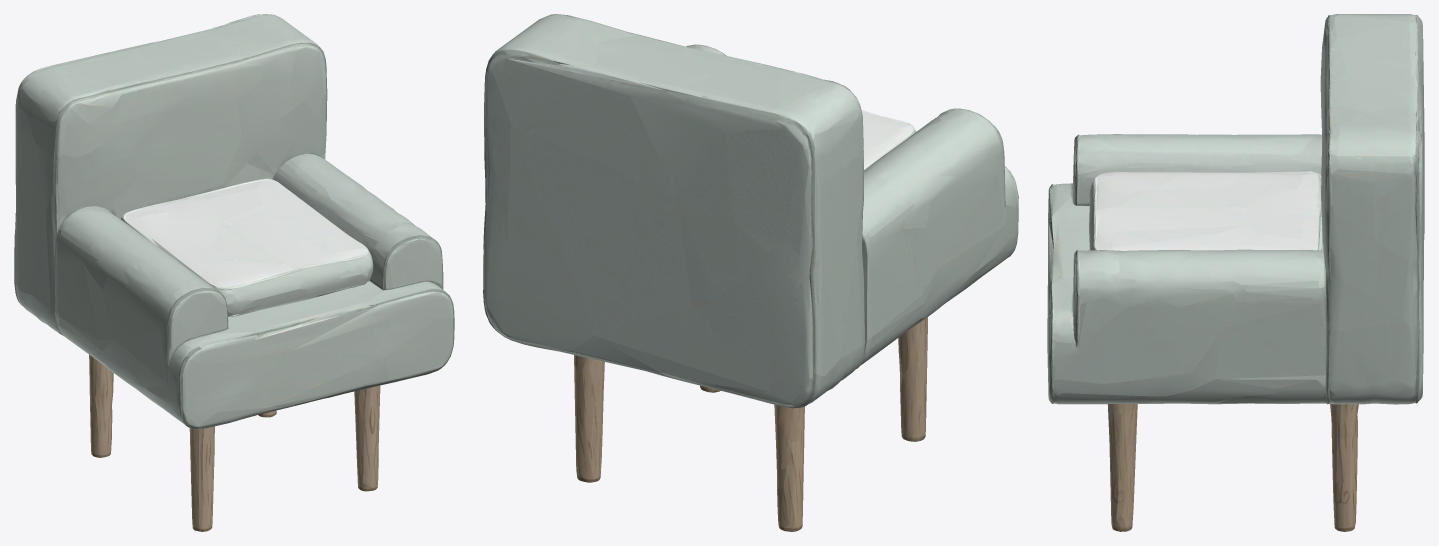
File: chair_arm.glb
3 renders of one model, left to right at view 1: azimuth 30°, elevation 25°; view 2: azimuth 150°, elevation 25°; view 3: azimuth 270°, elevation 25°, orthographic. The views are drawn at different scales.
Size of the model in its own units: 1.48 by 1.9 by 1.6.
Materials: 1 (1 with a texture image).
